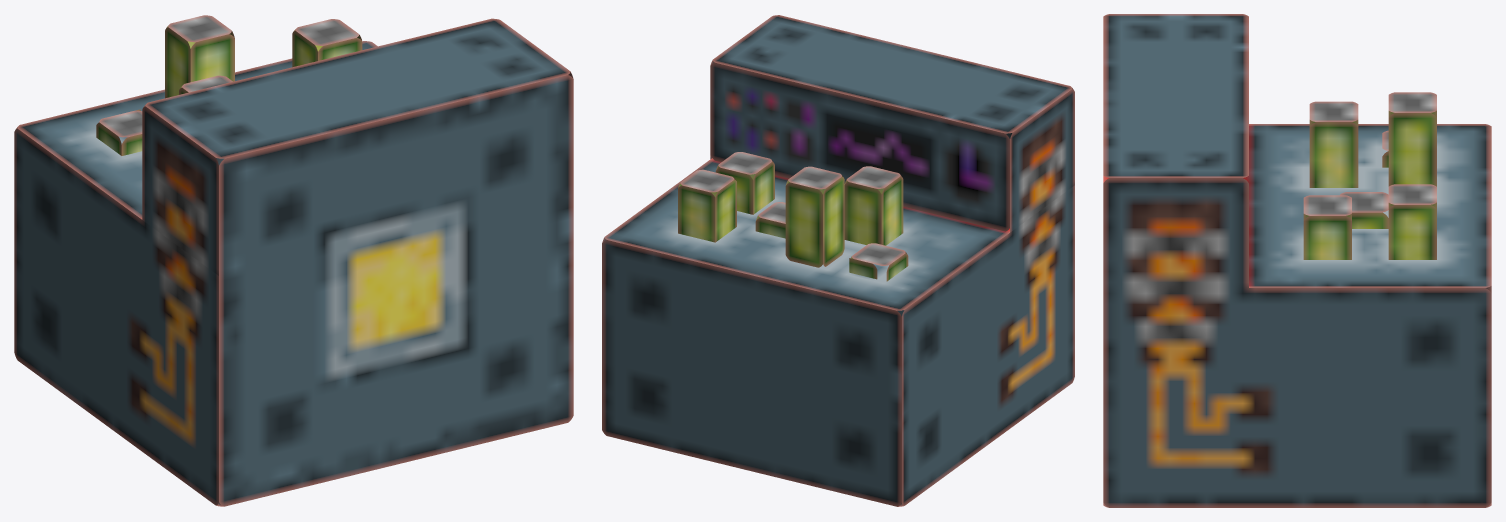
File: tor_atomic_flux_cell.obj
The picture shows the model from 3 angles, left to right: view 1: azimuth 30°, elevation 25°; view 2: azimuth 150°, elevation 25°; view 3: azimuth 270°, elevation 25°; orthographic projection. The views are drawn at different scales.
Parts seen in each view (by area): view 1: cube; view 2: cube; view 3: cube.
Part boxes in pixels (bbox=[...]): cube: bbox=[14, 15, 573, 506]; cube: bbox=[602, 15, 1074, 506]; cube: bbox=[1103, 14, 1491, 507].
Size of the model in its own units: 1 by 0.9375 by 1.
1 material, 1 textured.
